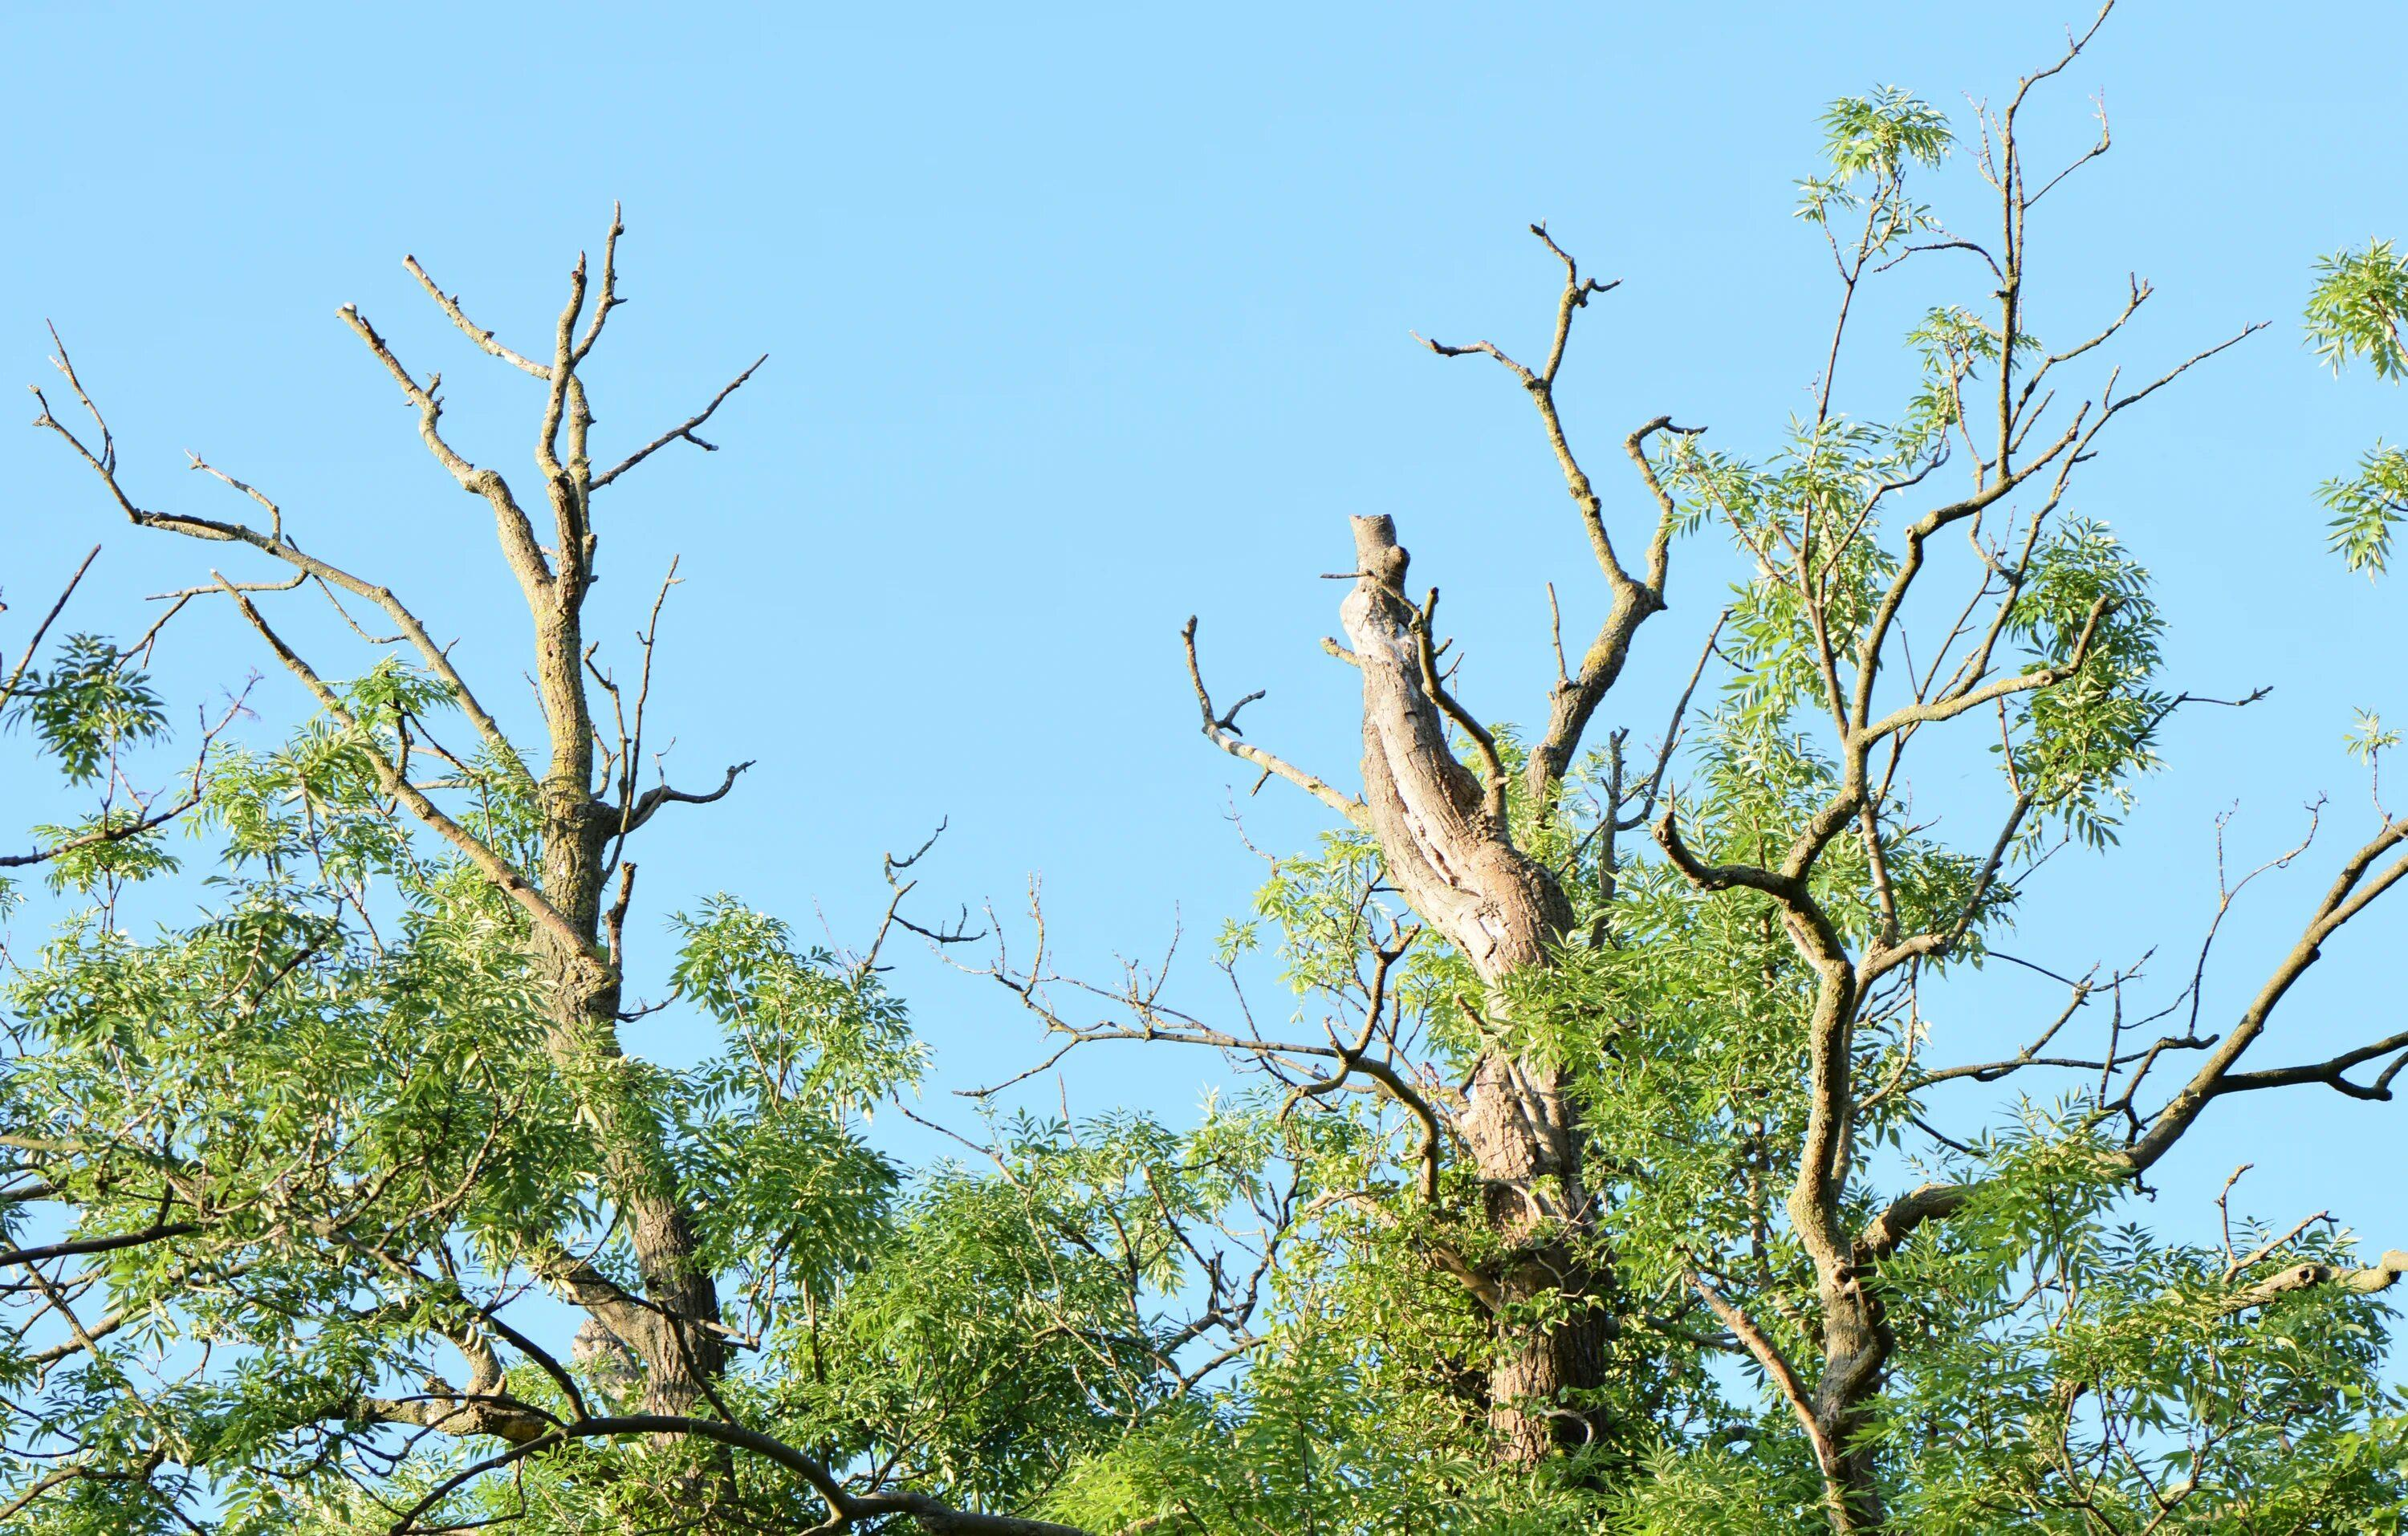baldness: (342, 225, 741, 1046), (1204, 514, 1569, 981), (1427, 226, 1702, 795), (1910, 33, 2173, 556), (121, 497, 390, 600), (1845, 646, 2096, 751), (1471, 1052, 1581, 1218), (1506, 1325, 1602, 1387)
